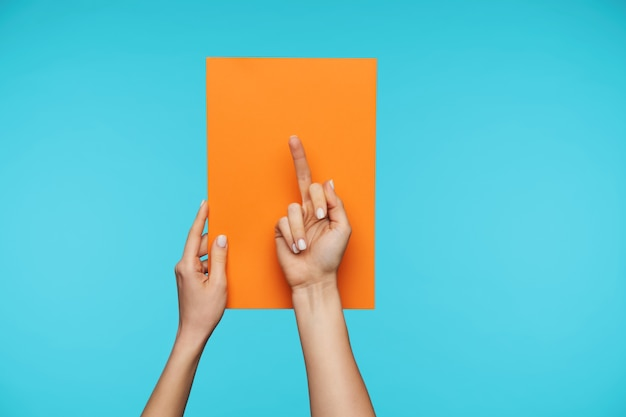insulting_gesture: (272, 132, 353, 286)
